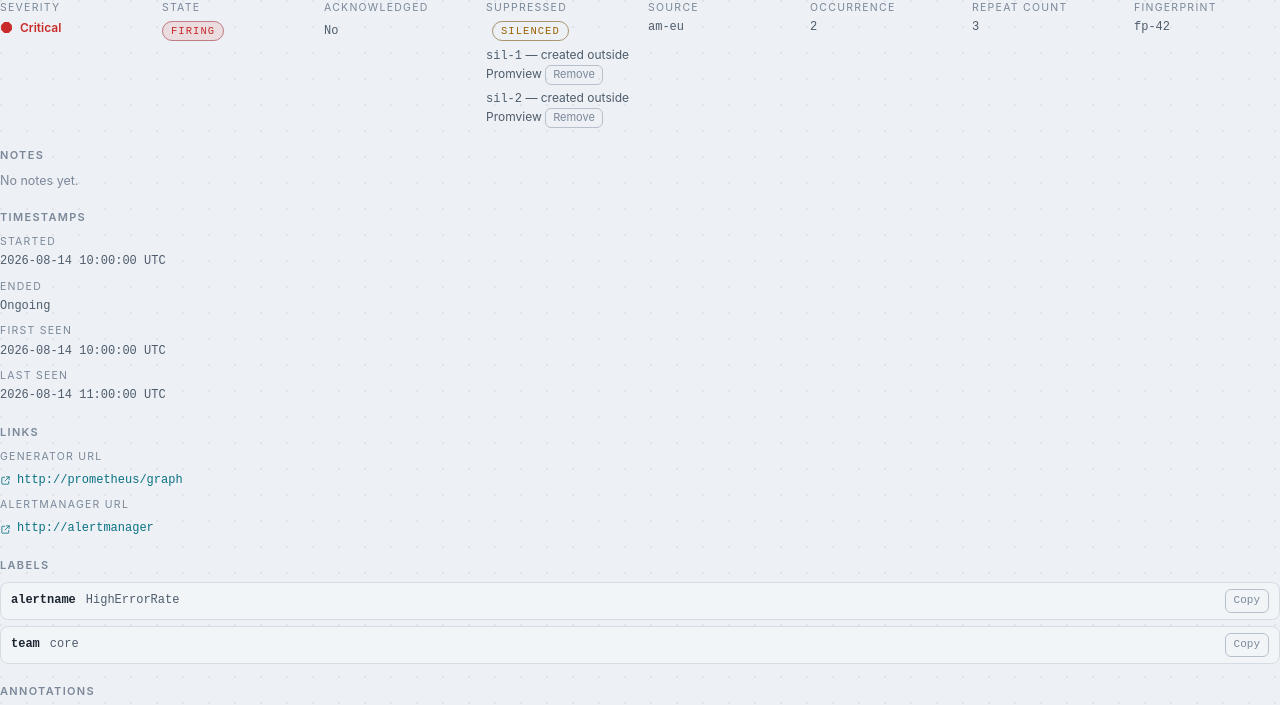
removing a silence › says what went wrong and leaves the silence listed
Click the button "Remove" below "sil-1": point(574, 75) [545,65,603,85]
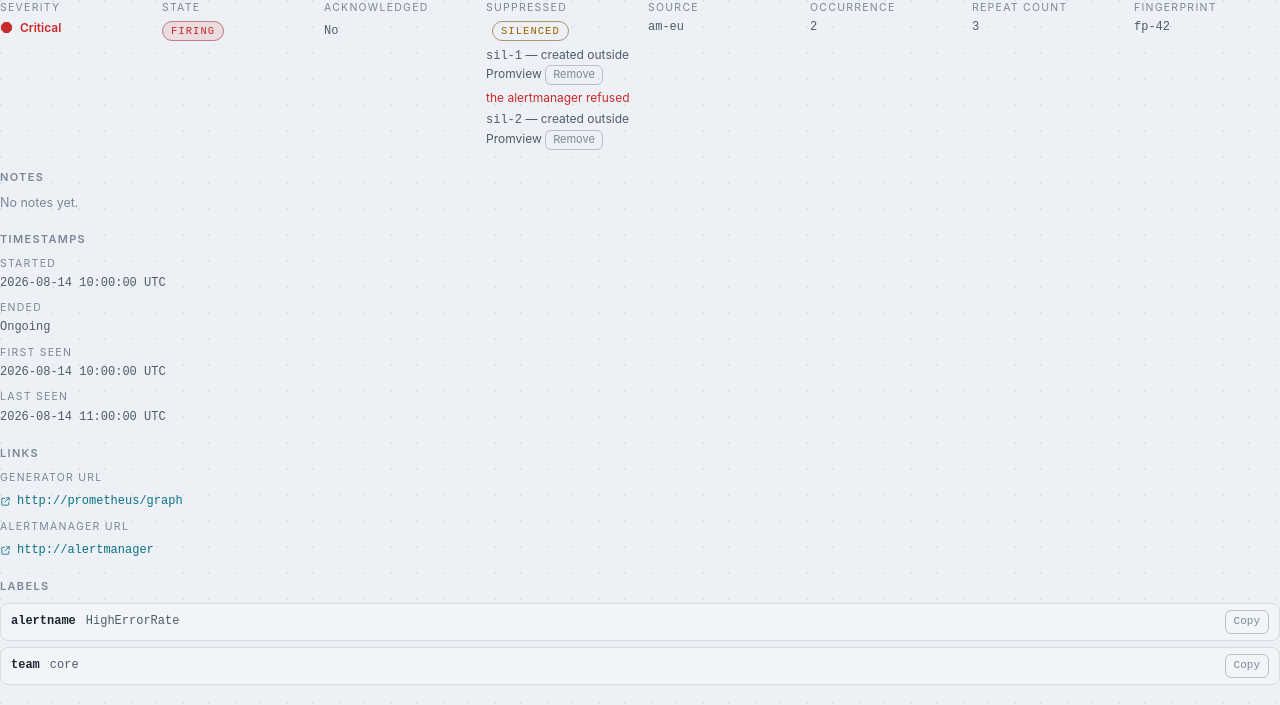
Expected: the text "silenced" is shown, [492,21,569,41]
Result: the message reads "the alertmanager refused" at [486,90,630,105]
